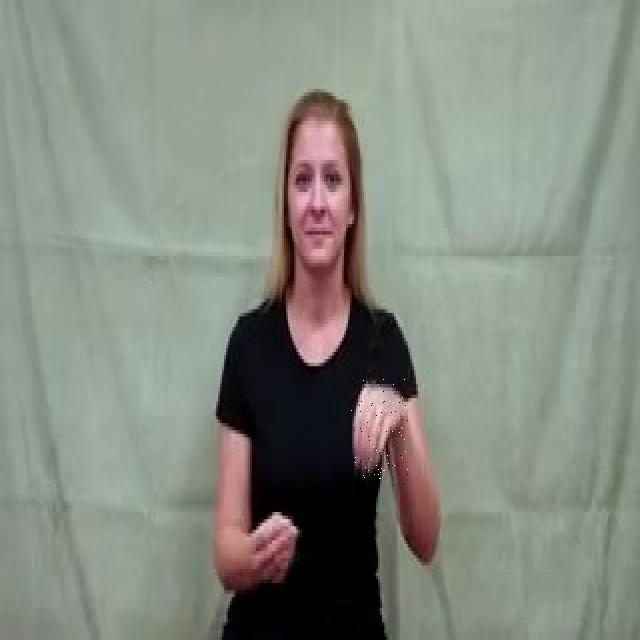ingredients: (351, 378, 408, 488)
